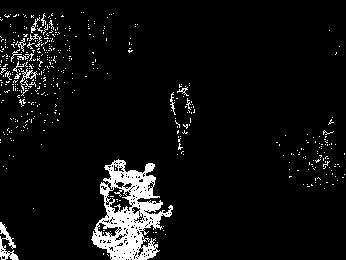person: (169, 82, 197, 159)
